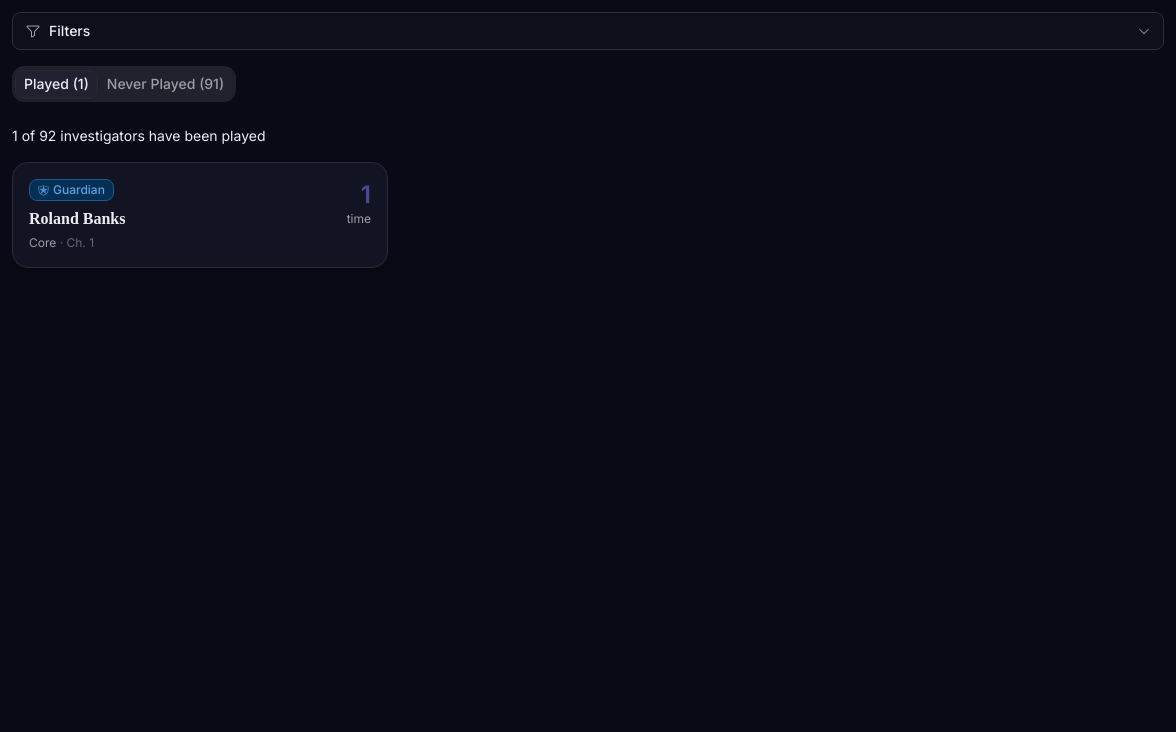
it: PlayersOverview — Class filter buttons contain faction glyph + visible text › Guardian class button renders visible text in PlayersOverview
The image size is (1176, 732).
Click the button "Filters" at (70, 30), box [12,12,1164,50]
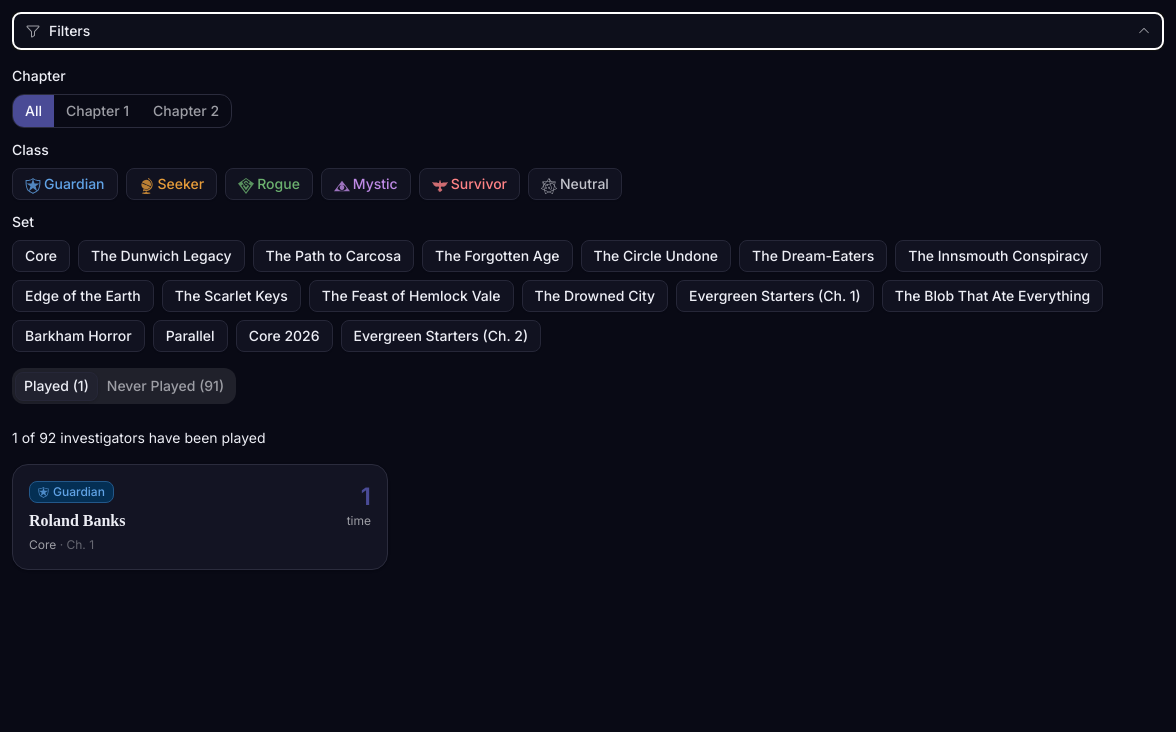
Expected: the button "Guardian" is shown, [12,168,118,200]
